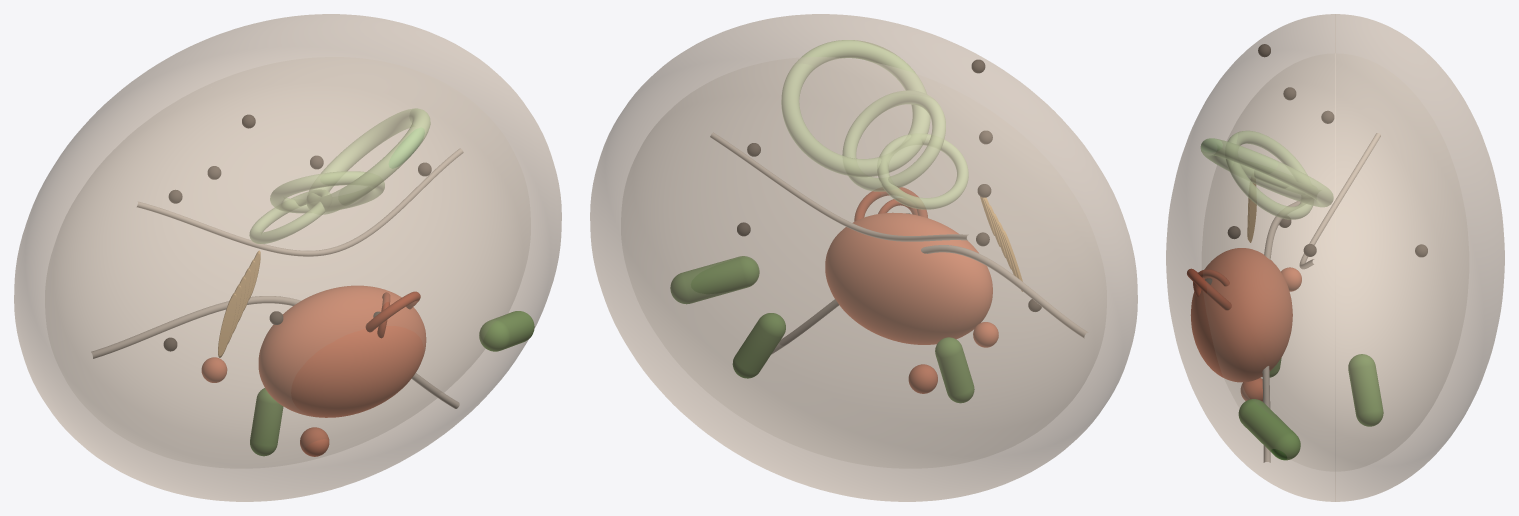
Rendered from animal-cell-authored.glb.
3 renders of one model, left to right at view 1: azimuth 30°, elevation 25°; view 2: azimuth 150°, elevation 25°; view 3: azimuth 270°, elevation 25°, orthographic. The views are drawn at different scales.
Visible parts, largest first — view 1: cell-membrane-transparent-shell, cytoplasm-soft-interior, nucleus-pulsing-control-center, rough-er-fold-a, cytoskeleton-filament-b, cytoskeleton-filament-a, rough-er-fold-b, rough-er-fold-c, mitochondrion-animated-a, mitochondrion-animated-c, lysosome-vesicle-a, dna-coiled-loop-a (+1 smaller); view 2: cell-membrane-transparent-shell, cytoplasm-soft-interior, nucleus-pulsing-control-center, rough-er-fold-a, rough-er-fold-b, mitochondrion-animated-a, rough-er-fold-c, cytoskeleton-filament-a, mitochondrion-animated-b, cytoskeleton-filament-b, mitochondrion-animated-c, lysosome-vesicle-a; view 3: cell-membrane-transparent-shell, cytoplasm-soft-interior, nucleus-pulsing-control-center, rough-er-fold-a, rough-er-fold-b, mitochondrion-animated-a, mitochondrion-animated-b, cytoskeleton-filament-b, cytoskeleton-filament-a, dna-coiled-loop-a, lysosome-vesicle-a.
Part boxes in pixels (x1,y1,x2,y2): cell-membrane-transparent-shell: (14, 14, 561, 501); cytoplasm-soft-interior: (45, 57, 530, 467); nucleus-pulsing-control-center: (258, 285, 426, 417); rough-er-fold-a: (306, 108, 430, 214); cytoskeleton-filament-b: (137, 148, 463, 256); cytoskeleton-filament-a: (91, 296, 459, 408); rough-er-fold-b: (270, 171, 384, 213); rough-er-fold-c: (249, 189, 330, 243); mitochondrion-animated-a: (479, 311, 534, 351); mitochondrion-animated-c: (250, 388, 283, 456); lysosome-vesicle-a: (300, 427, 329, 456); dna-coiled-loop-a: (365, 291, 420, 332); cell-membrane-transparent-shell: (590, 14, 1137, 501); cytoplasm-soft-interior: (621, 57, 1106, 467); nucleus-pulsing-control-center: (825, 212, 992, 344); rough-er-fold-a: (781, 40, 930, 177); rough-er-fold-b: (842, 90, 945, 191); mitochondrion-animated-a: (670, 256, 759, 304); rough-er-fold-c: (877, 134, 968, 209); cytoskeleton-filament-a: (771, 245, 1087, 354); mitochondrion-animated-b: (732, 313, 785, 378); cytoskeleton-filament-b: (710, 132, 968, 241); mitochondrion-animated-c: (935, 337, 974, 403); lysosome-vesicle-a: (908, 364, 937, 393); cell-membrane-transparent-shell: (1166, 14, 1504, 501); cytoplasm-soft-interior: (1202, 54, 1468, 470); nucleus-pulsing-control-center: (1191, 248, 1292, 382); rough-er-fold-a: (1200, 138, 1333, 207); rough-er-fold-b: (1225, 130, 1312, 219); mitochondrion-animated-a: (1238, 399, 1300, 460); mitochondrion-animated-b: (1348, 354, 1383, 426); cytoskeleton-filament-b: (1299, 133, 1380, 269); cytoskeleton-filament-a: (1262, 201, 1300, 462); dna-coiled-loop-a: (1187, 268, 1231, 310); lysosome-vesicle-a: (1240, 378, 1262, 401).
Size of what is drawn, in the model's own units: 2.22 by 1.86 by 1.34.
